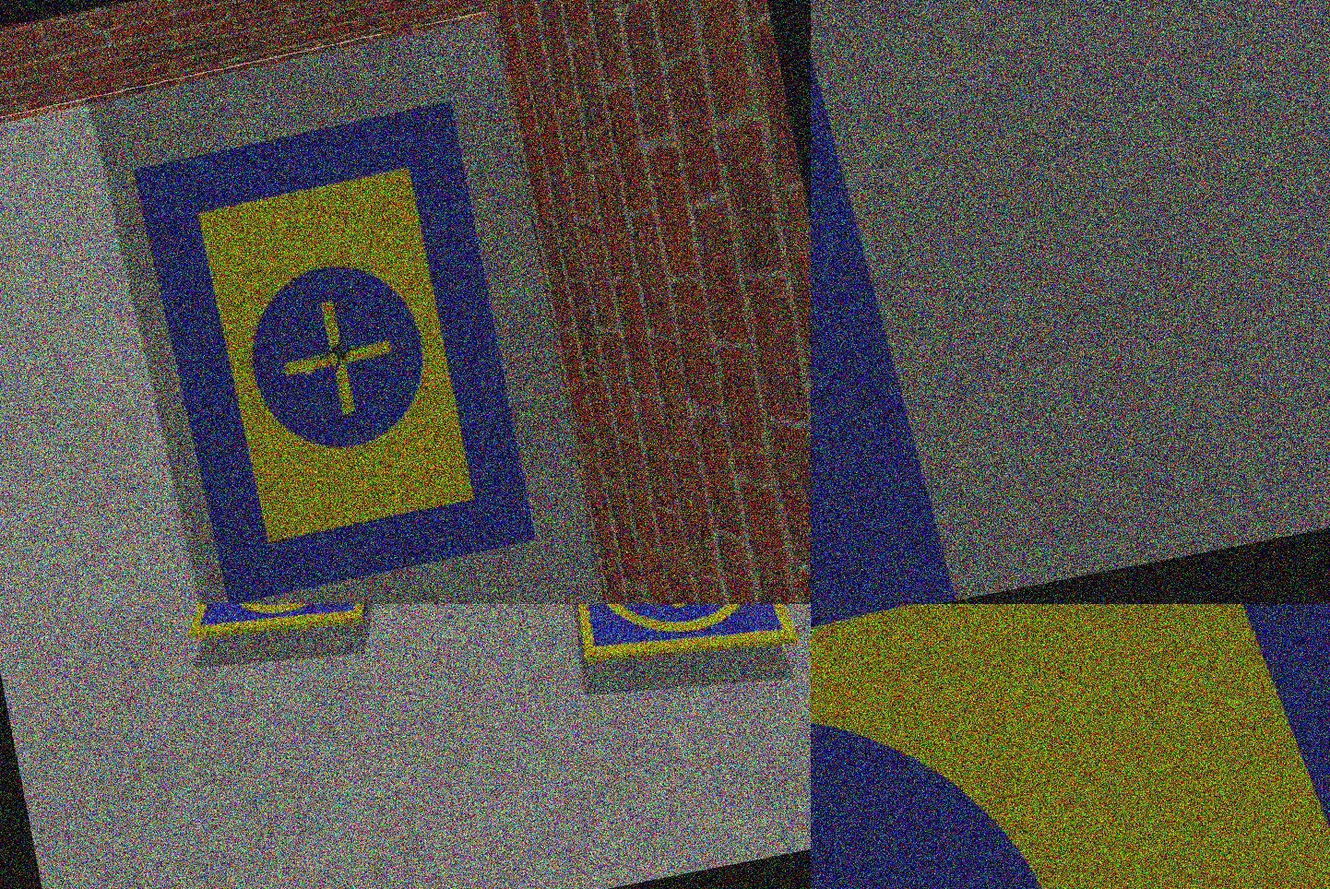large_base: (132, 100, 542, 605), (812, 605, 1330, 889), (812, 1, 965, 605)
small_base: (555, 605, 804, 683), (166, 605, 408, 657)
